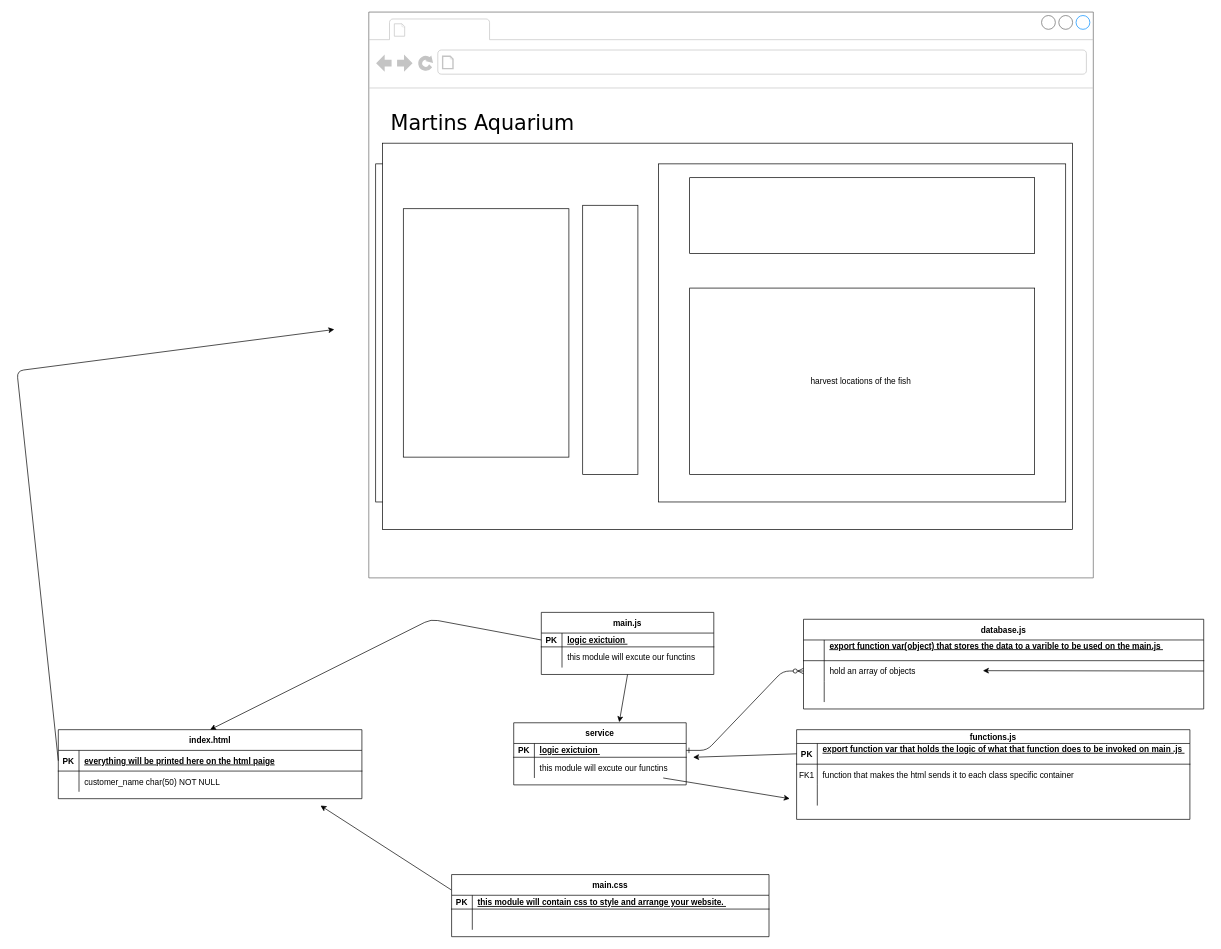
Some shapes in this 1221 by 949 pixel diagram are drawn without their labels. The centre of each missing label's shape, as x and y in pixels:
"<aside> hewants this to have tank reqirements for care and" goes at (610,339).
"https://www.default.com" goes at (544,62).
"Page 1" goes at (448,29).
"Travel tips" goes at (862,215).
